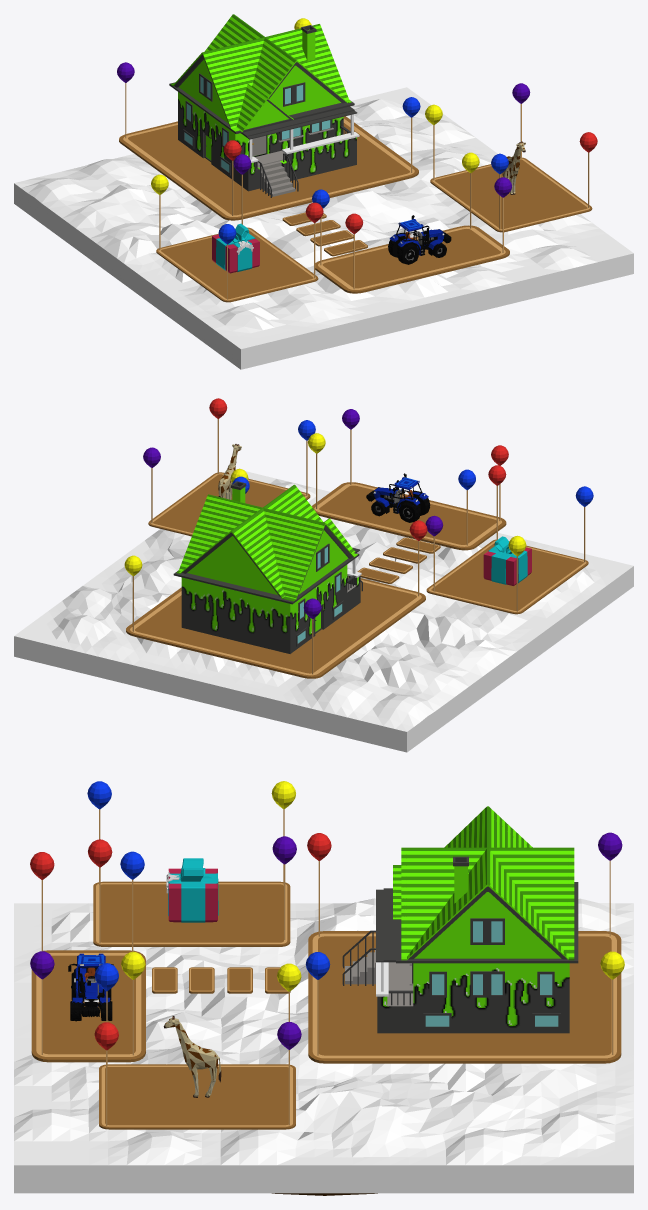
3 views of the same model, one above another, from view 1: azimuth 30°, elevation 25°; view 2: azimuth 150°, elevation 25°; view 3: azimuth 270°, elevation 25° (orthographic). The views are drawn at different scales.
Visible parts, largest first — view 1: Cube.013, Cube.754, VEHICLES_TRACTOR, OBJRANDOM_GIANT_PRESENT, ANIMAL_JIRAFA; view 2: Cube.013, Cube.754, VEHICLES_TRACTOR, OBJRANDOM_GIANT_PRESENT, ANIMAL_JIRAFA; view 3: Cube.013, Cube.754, OBJRANDOM_GIANT_PRESENT, VEHICLES_TRACTOR, ANIMAL_JIRAFA.
Boxes of the visible parts, x1=… form: Cube.013: x1=14, y1=18, x2=633, y2=369; Cube.754: x1=169, y1=14, x2=359, y2=197; VEHICLES_TRACTOR: x1=388, y1=215, x2=451, y2=264; OBJRANDOM_GIANT_PRESENT: x1=212, y1=223, x2=259, y2=273; ANIMAL_JIRAFA: x1=502, y1=141, x2=525, y2=194; Cube.013: x1=14, y1=398, x2=633, y2=752; Cube.754: x1=173, y1=481, x2=362, y2=653; VEHICLES_TRACTOR: x1=366, y1=473, x2=430, y2=522; OBJRANDOM_GIANT_PRESENT: x1=483, y1=536, x2=531, y2=585; ANIMAL_JIRAFA: x1=218, y1=444, x2=241, y2=499; Cube.013: x1=14, y1=781, x2=633, y2=1193; Cube.754: x1=342, y1=806, x2=578, y2=1033; OBJRANDOM_GIANT_PRESENT: x1=166, y1=858, x2=218, y2=922; VEHICLES_TRACTOR: x1=68, y1=953, x2=113, y2=1021; ANIMAL_JIRAFA: x1=163, y1=1016, x2=221, y2=1097.
Bounding box in the file's own units: 4000 × 1753 × 4000.
Materials: 36 (2 with a texture image).
